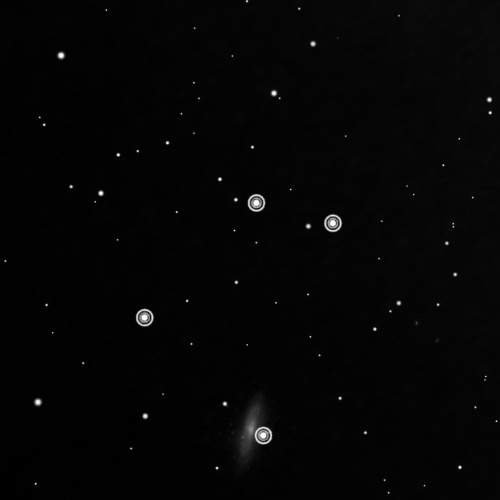coma_berenices: (131, 190, 347, 448)
